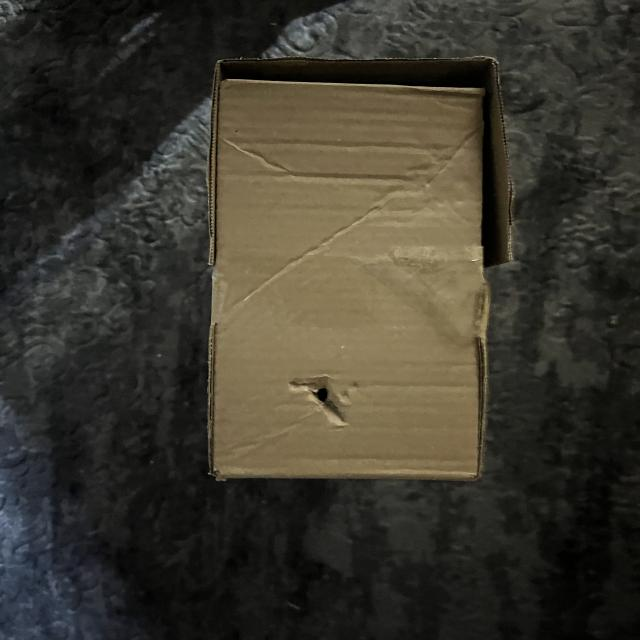damaged: (205, 54, 510, 494), (222, 49, 494, 97), (286, 367, 372, 434)
